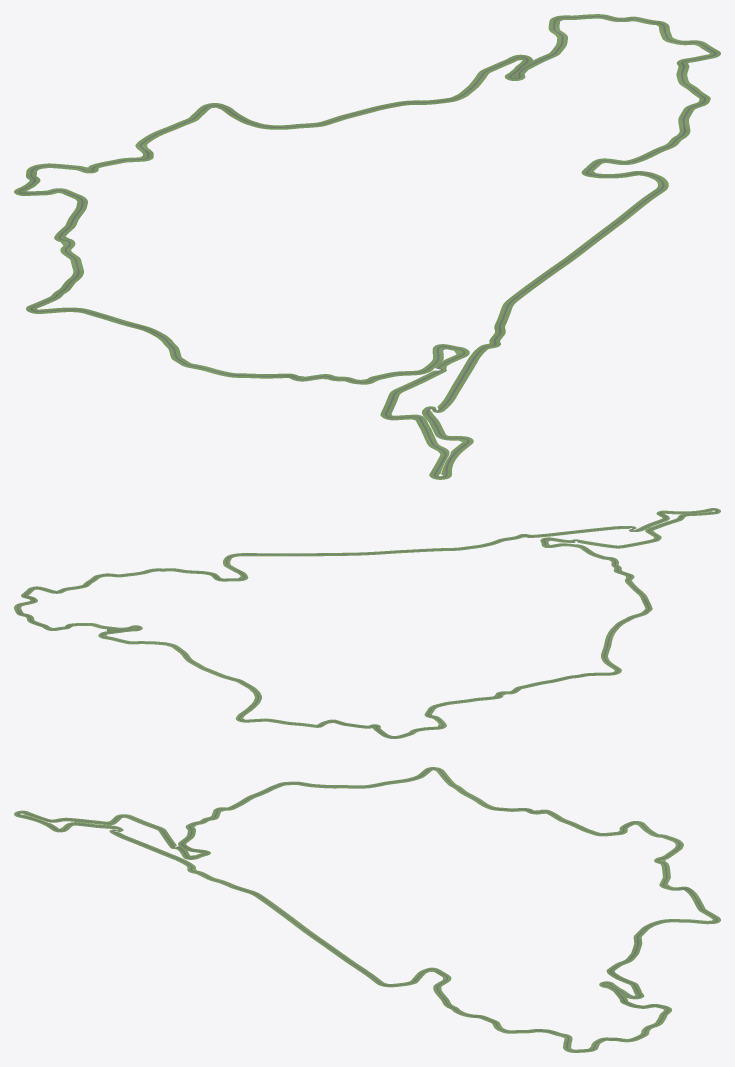
The model's file is road_mesh.glb.
The picture shows the model from 3 angles, top to bottom: view 1: azimuth 30°, elevation 25°; view 2: azimuth 150°, elevation 25°; view 3: azimuth 270°, elevation 25°; orthographic projection. The views are drawn at different scales.
Size of the model in its own units: 6160 by 293 by 6423.
